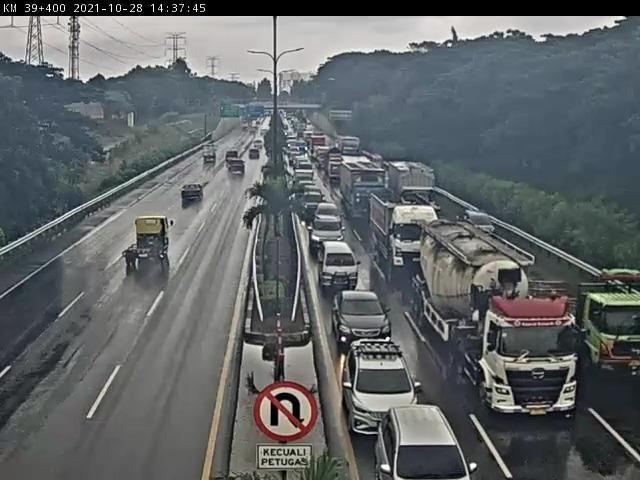car: (336, 338, 432, 434), (367, 395, 475, 480), (310, 239, 372, 301), (330, 290, 400, 342), (309, 216, 350, 256), (177, 172, 210, 219), (461, 207, 502, 243), (312, 201, 355, 234), (227, 158, 248, 178), (246, 138, 269, 153), (226, 146, 245, 161), (248, 147, 263, 165)
truck: (418, 227, 594, 420), (560, 250, 640, 392), (367, 195, 457, 280), (337, 161, 393, 226), (390, 157, 448, 217), (121, 211, 173, 276), (198, 142, 221, 166)
